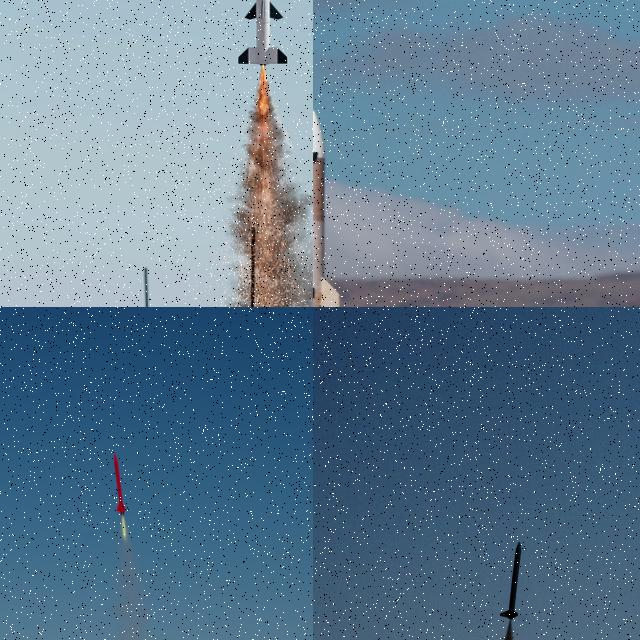Rocket: (313, 107, 344, 307), (237, 0, 289, 64), (499, 541, 522, 620), (113, 451, 127, 515)
